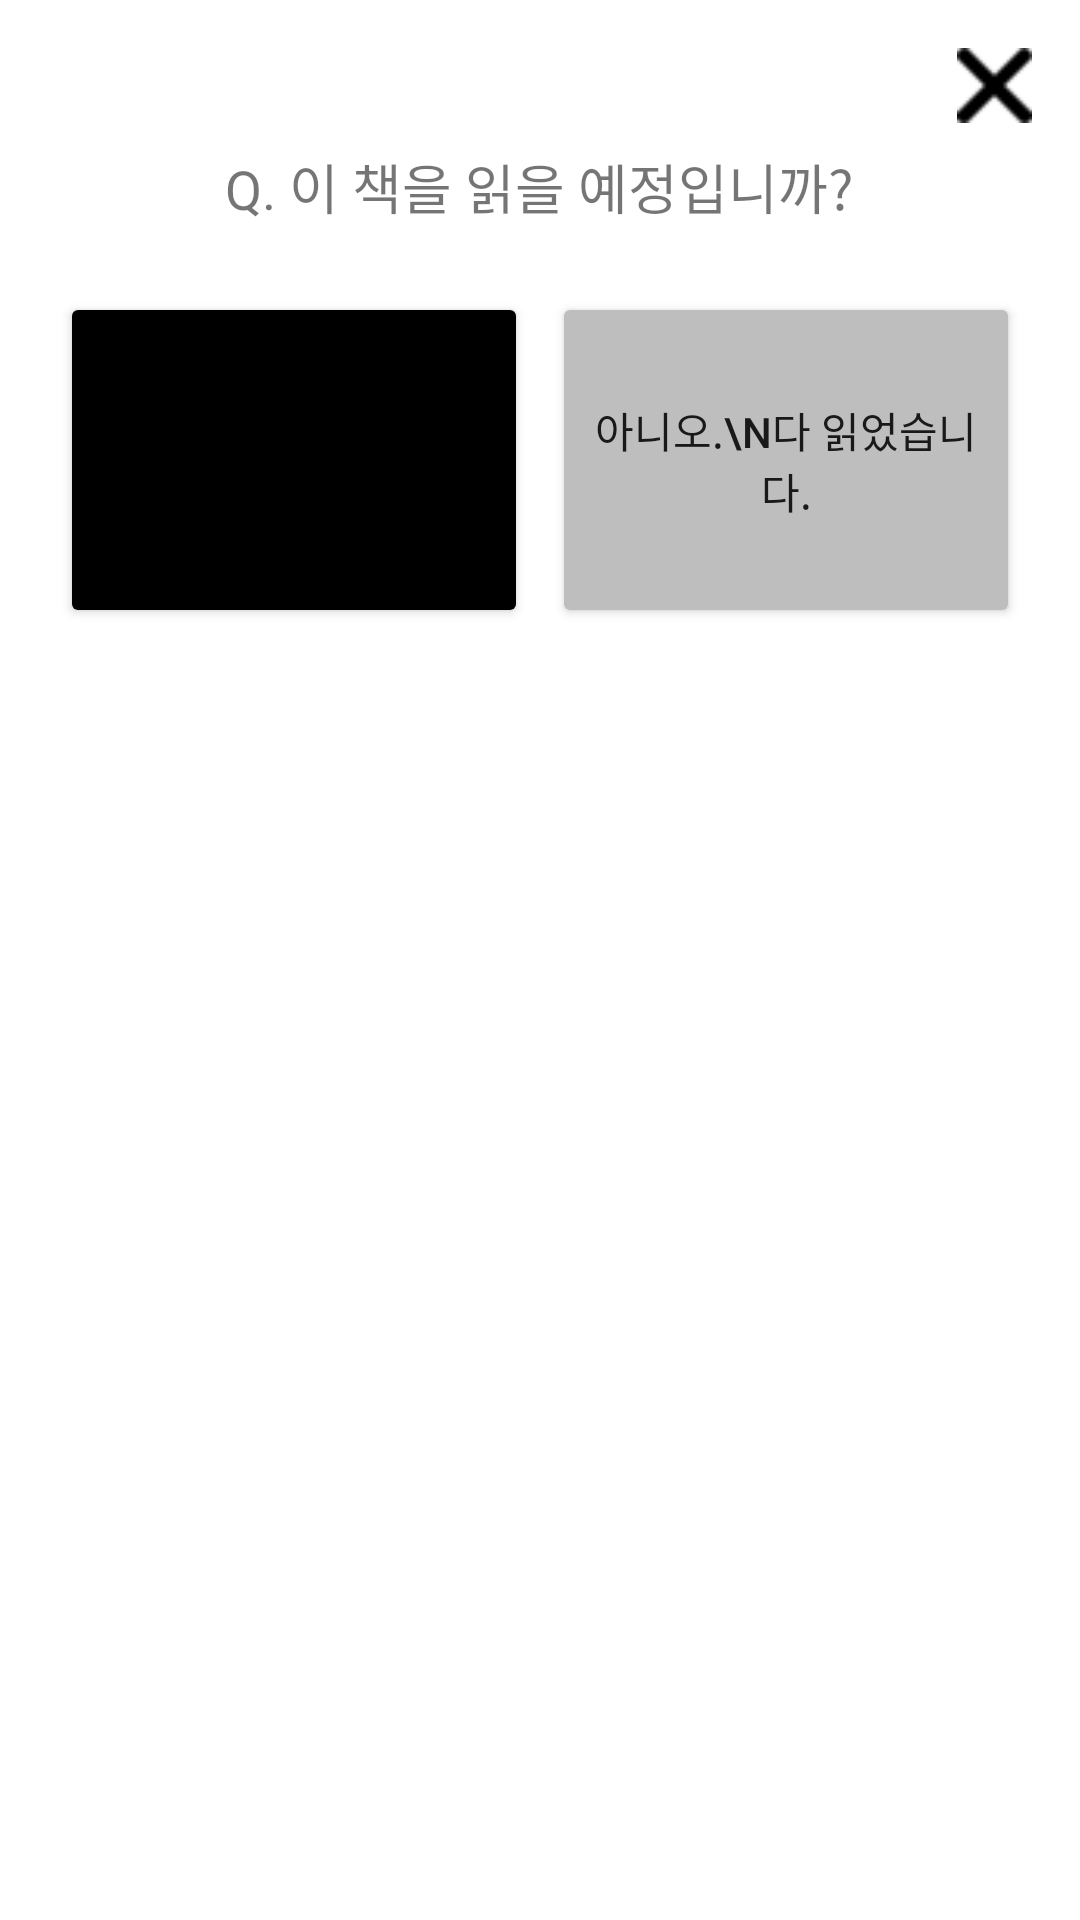

Named icons in this screenshot (1080px×1920px) and their bounding boxes, (x1, y1, x2, y2):
close: (957, 48, 1032, 123)
